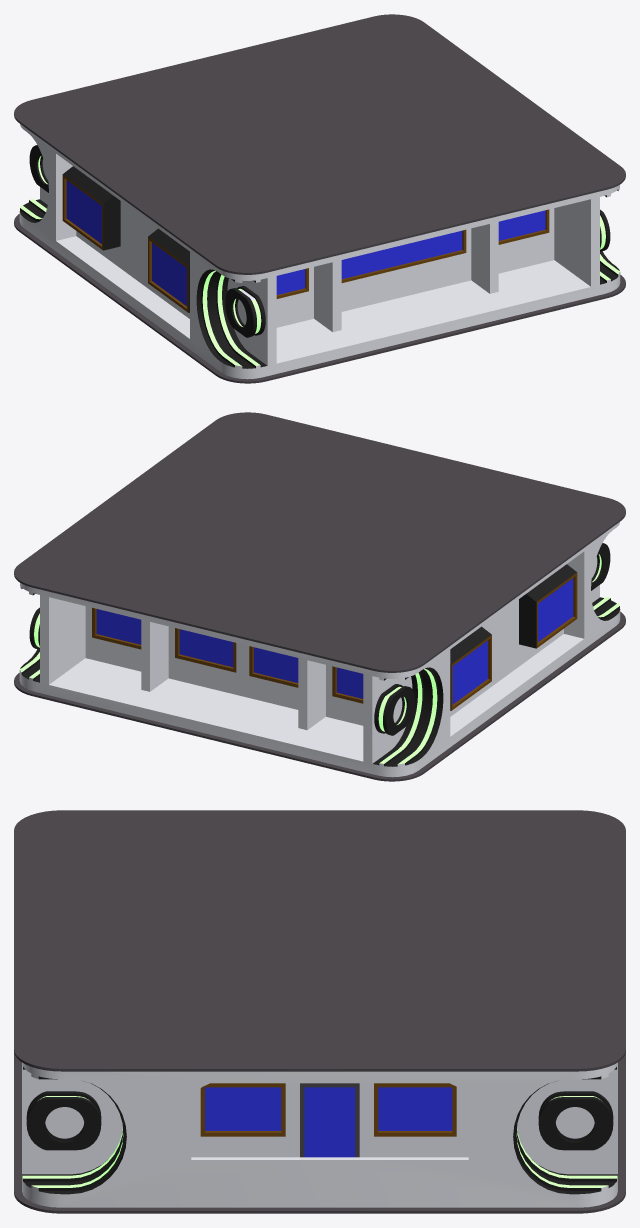
The model's file is SM_B_i9_Mid.fbx.
3 views of the same model, one above another, from view 1: azimuth 30°, elevation 25°; view 2: azimuth 150°, elevation 25°; view 3: azimuth 270°, elevation 25° (orthographic). The views are drawn at different scales.
Parts seen in each view (by area): view 1: SM_B_i9_Mid; view 2: SM_B_i9_Mid; view 3: SM_B_i9_Mid.
Part boxes in pixels (bbox=[...]): SM_B_i9_Mid: bbox=[14, 14, 625, 383]; SM_B_i9_Mid: bbox=[14, 412, 625, 781]; SM_B_i9_Mid: bbox=[14, 810, 625, 1213].
Bounding box in the file's own units: 2100 × 548 × 2100.
